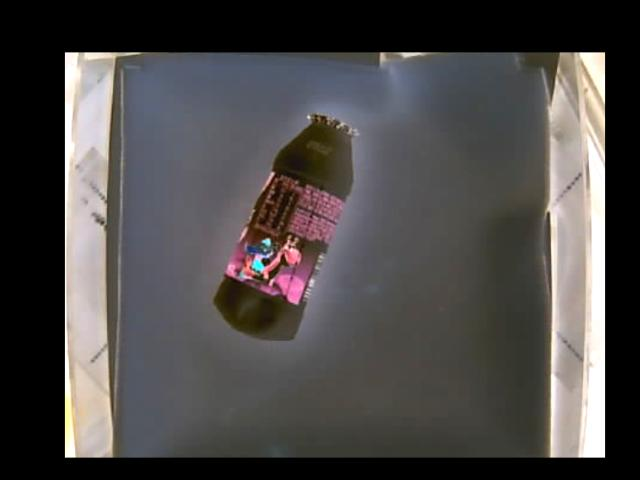Bottle: (211, 114, 360, 344)
